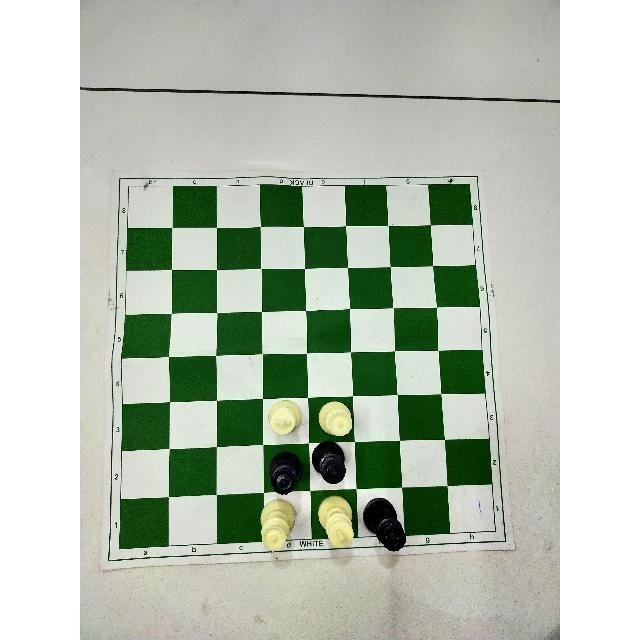black-king: (309, 439, 349, 487)
black-queen: (360, 494, 408, 553), (266, 449, 306, 497)
white-king: (315, 493, 355, 551), (266, 397, 304, 437)
white-queen: (256, 496, 297, 554), (316, 399, 354, 440)
